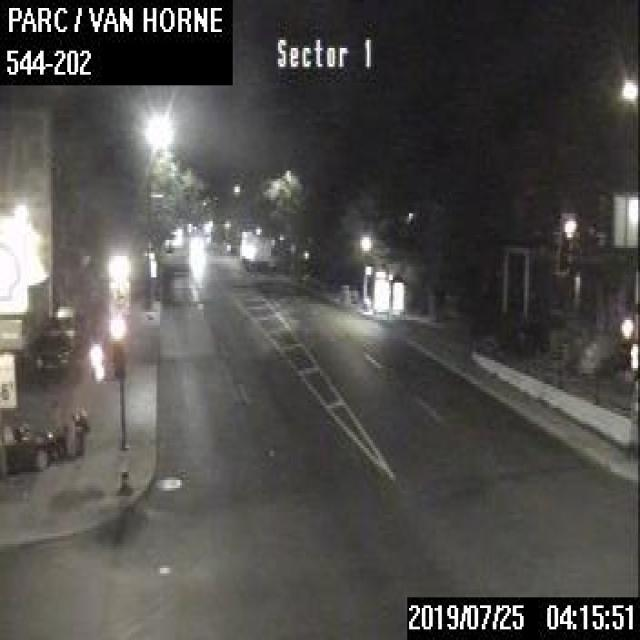vehicle: (0, 272, 49, 365), (0, 417, 55, 472), (44, 302, 80, 349), (34, 335, 72, 376)
